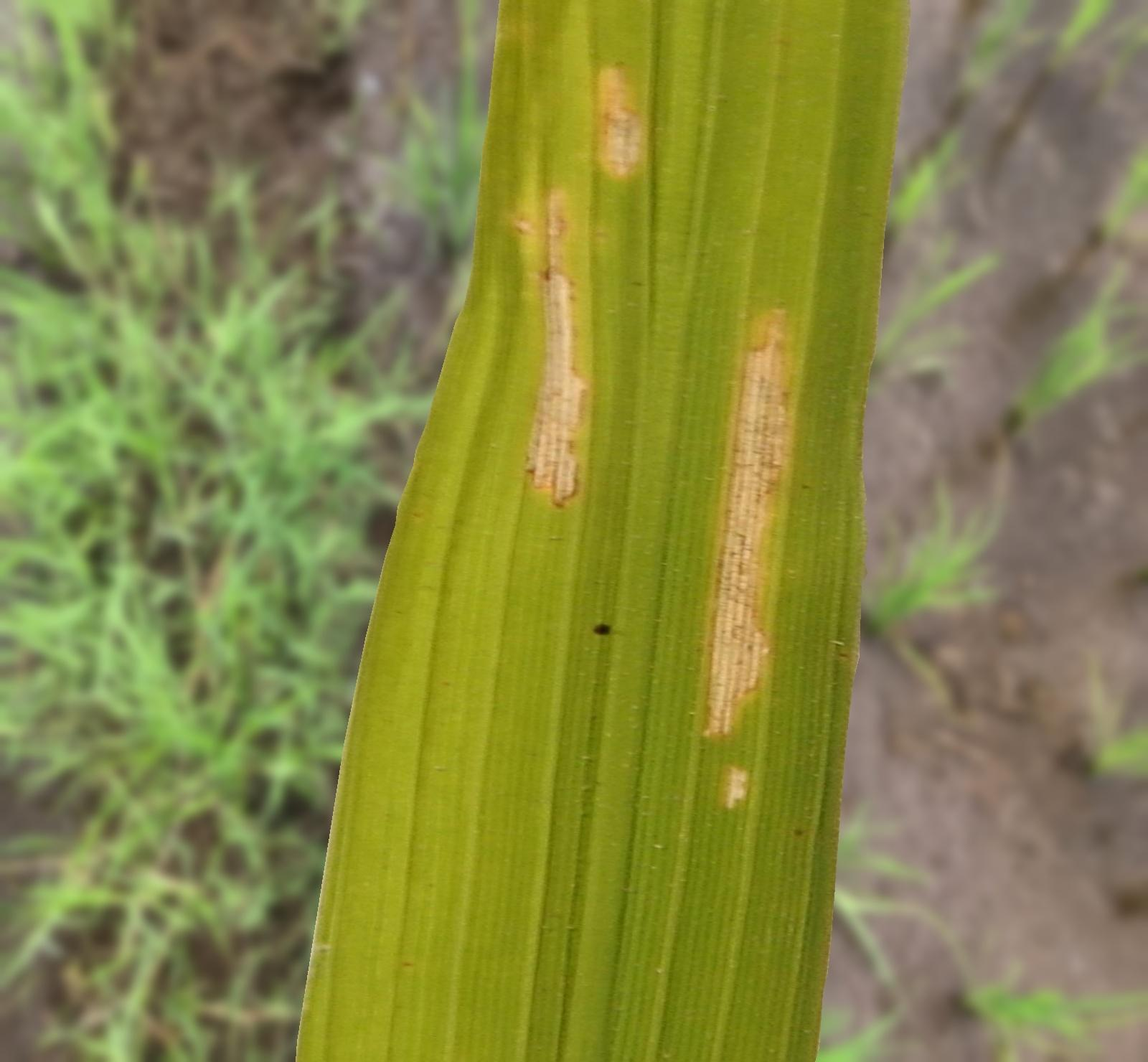BLS: (702, 309, 788, 738), (527, 190, 586, 507), (598, 67, 641, 178)
LEAF: (296, 0, 911, 1061)
